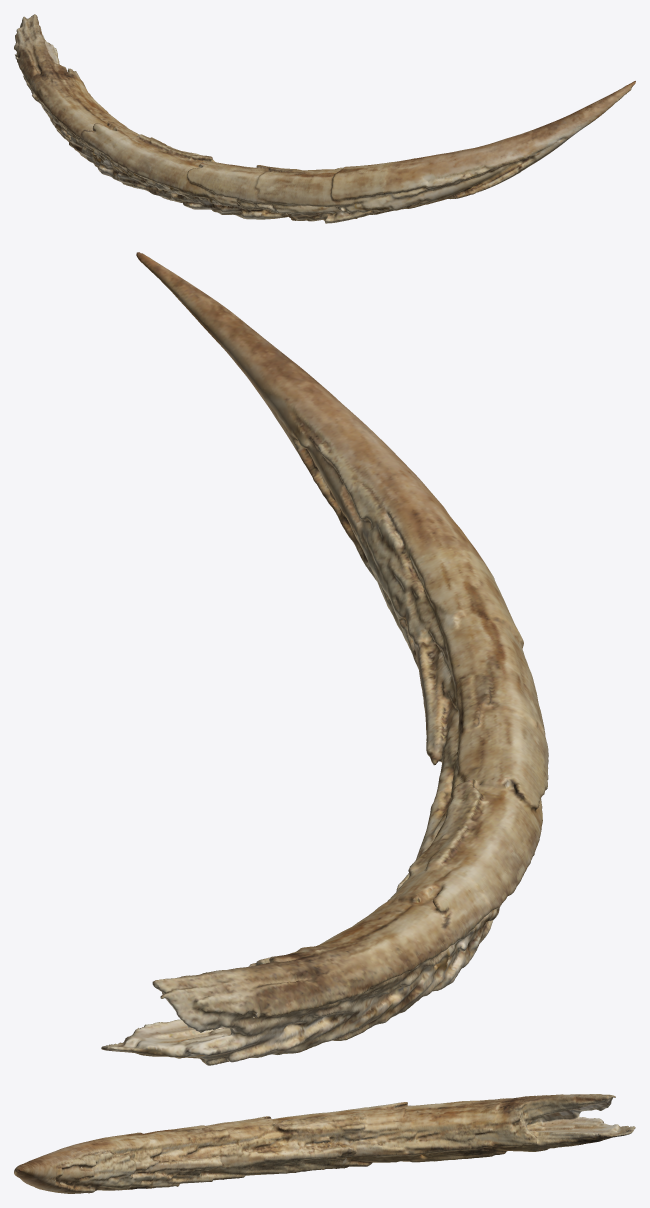
The model's file is Cuerno_mamut.fbx.
The picture shows the model from 3 angles, top to bottom: view 1: azimuth 30°, elevation 25°; view 2: azimuth 150°, elevation 25°; view 3: azimuth 270°, elevation 25°; orthographic projection. The views are drawn at different scales.
Parts seen in each view (by area): view 1: 5444_holzman_mammoth_tusk_longer pv; view 2: 5444_holzman_mammoth_tusk_longer pv; view 3: 5444_holzman_mammoth_tusk_longer pv.
Boxes of the visible parts, x1,y1,x2,y2 form: 5444_holzman_mammoth_tusk_longer pv: [14, 14, 635, 223]; 5444_holzman_mammoth_tusk_longer pv: [101, 252, 548, 1065]; 5444_holzman_mammoth_tusk_longer pv: [14, 1094, 635, 1193].
Size of the model in its own units: 64.18 by 25.57 by 97.05.
